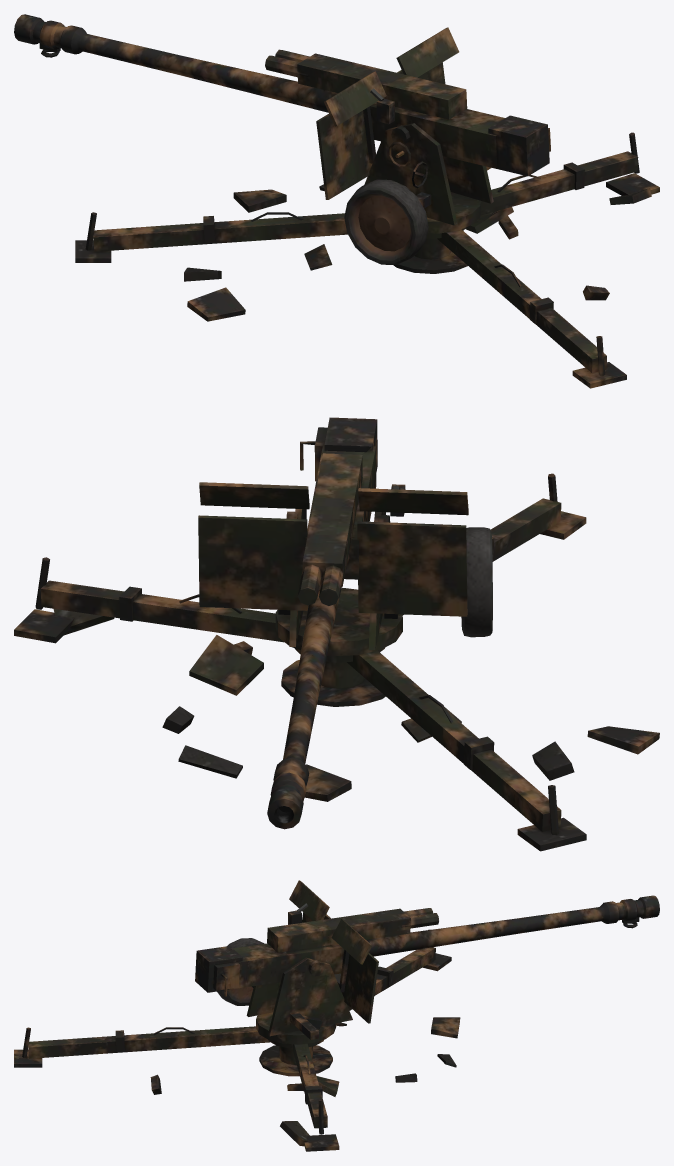
Rendered from artillery_destroyed.glb.
The picture shows the model from 3 angles, top to bottom: view 1: azimuth 30°, elevation 25°; view 2: azimuth 150°, elevation 25°; view 3: azimuth 270°, elevation 25°; orthographic projection. The views are drawn at different scales.
Visible parts, largest first — view 1: turret, barrel, trails, debris; view 2: turret, trails, barrel, debris; view 3: barrel, turret, trails, debris.
Part boxes in pixels (x1,y1,x2,y2): turret: [316, 27, 493, 264]; barrel: [14, 14, 550, 176]; trails: [75, 132, 659, 388]; debris: [184, 184, 651, 321]; turret: [198, 482, 492, 656]; trails: [14, 473, 586, 851]; barrel: [267, 417, 377, 829]; debris: [53, 608, 659, 801]; barrel: [195, 895, 659, 996]; turret: [217, 880, 378, 1044]; trails: [14, 929, 451, 1151]; debris: [150, 973, 460, 1146].
Bounding box in the file's own units: 5.59 × 1.92 × 7.72.
Materials: 1 (1 with a texture image).
